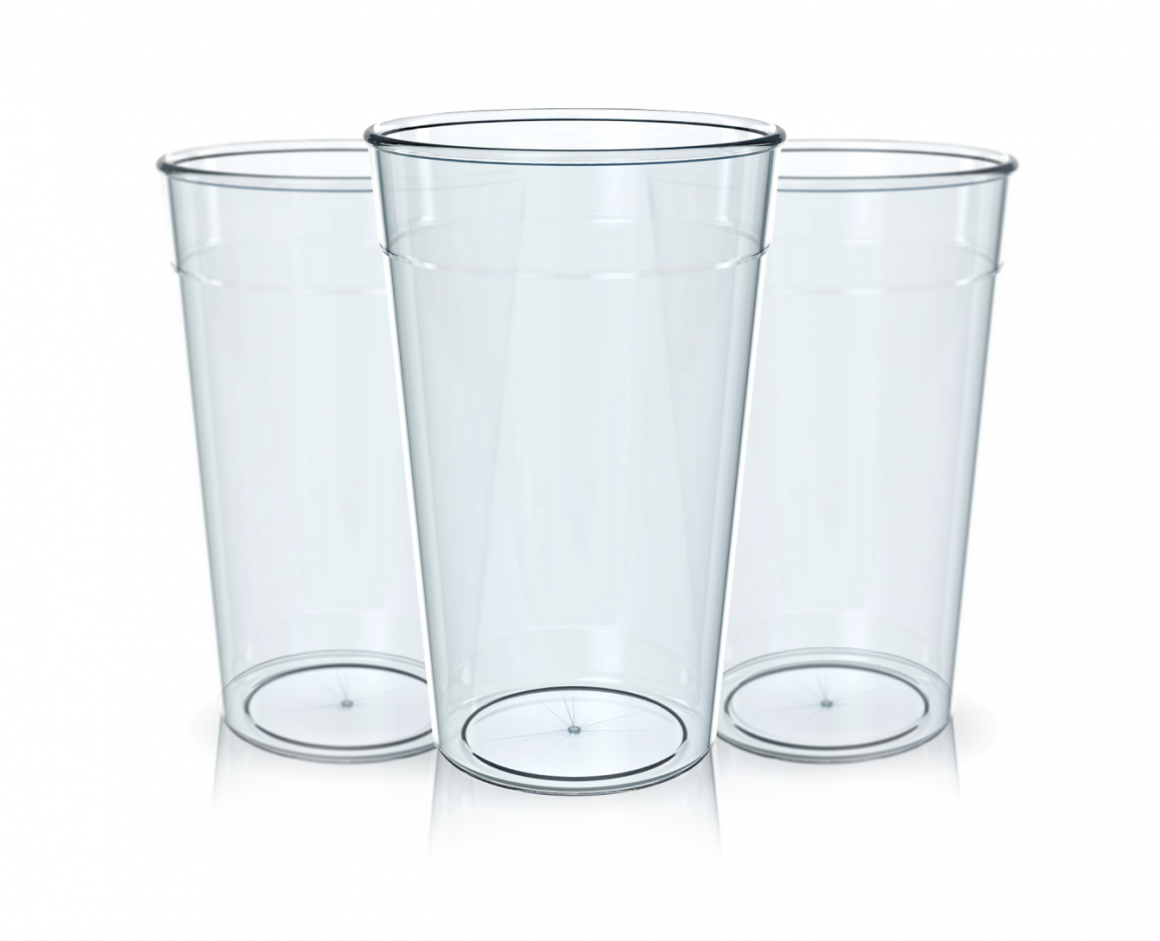plastic_bottle: (357, 104, 793, 801)
